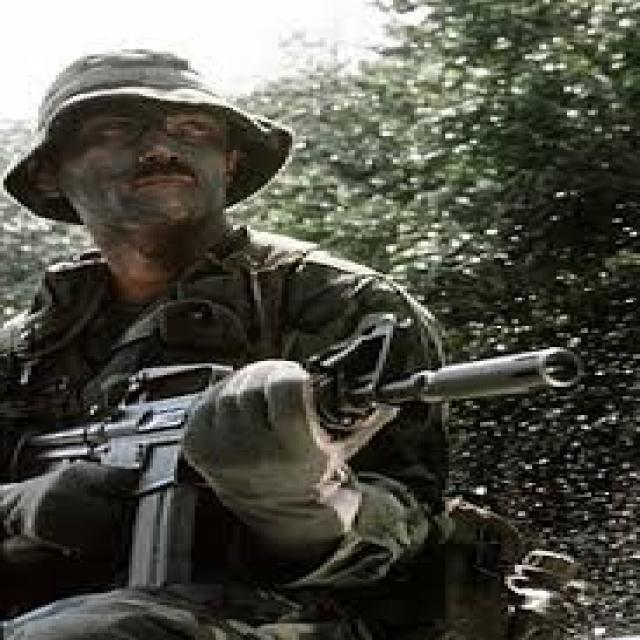m16: (0, 304, 603, 622)
